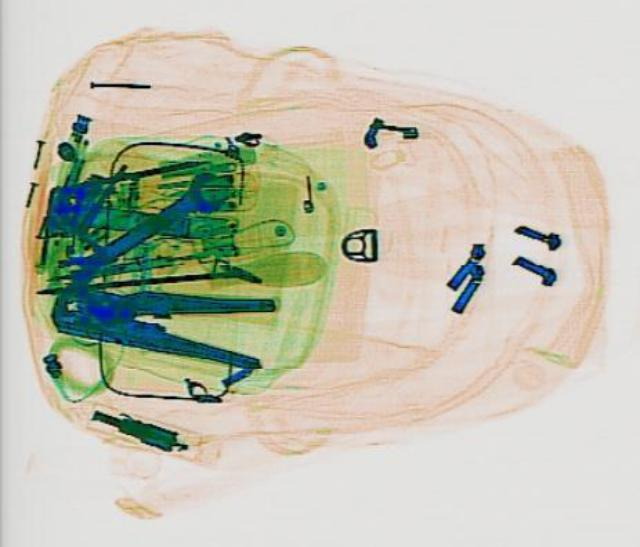Pliers: (46, 267, 276, 368)
Wrench: (51, 164, 238, 289)
